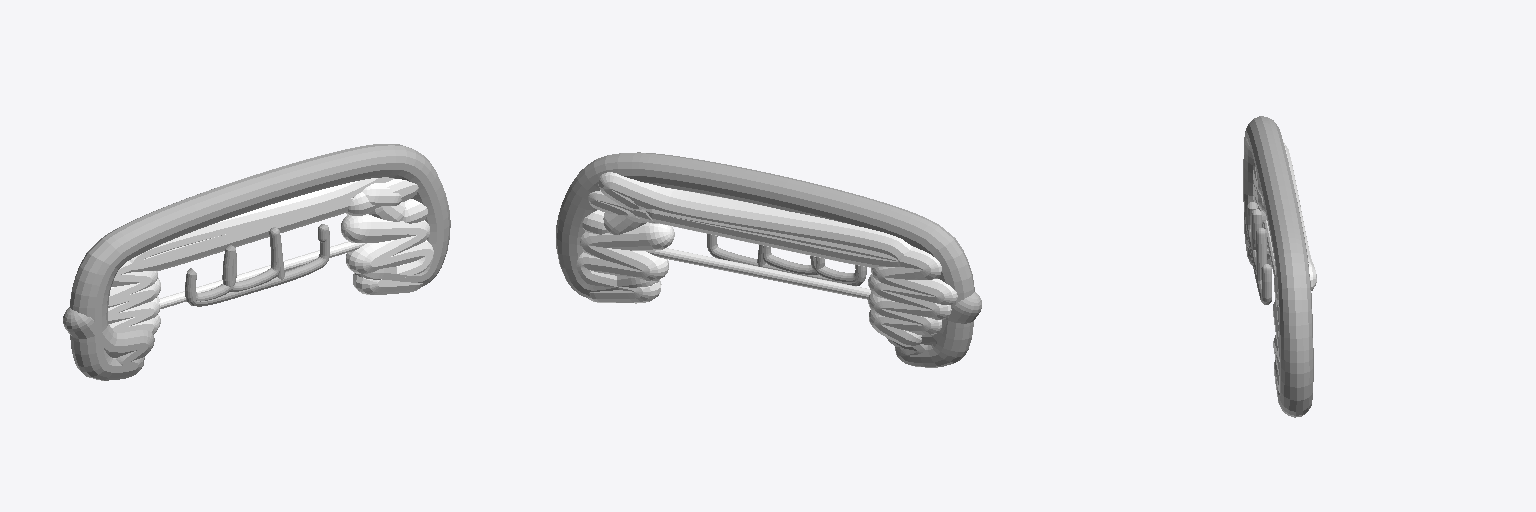
3 renders of one model, left to right at view 1: azimuth 30°, elevation 25°; view 2: azimuth 150°, elevation 25°; view 3: azimuth 270°, elevation 25°, orthographic.
Parts seen in each view (by area): view 1: obj1, obj6, obj2, obj8, obj4, obj7, obj5; view 2: obj1, obj6, obj2, obj7, obj8, obj4; view 3: obj1, obj8, obj6.
Boxes of the visible parts, <box> form: obj1: <box>63,144,450,380</box>; obj6: <box>108,177,394,334</box>; obj2: <box>341,214,433,294</box>; obj8: <box>185,224,329,306</box>; obj4: <box>346,179,418,221</box>; obj7: <box>159,241,366,308</box>; obj5: <box>362,183,401,207</box>; obj1: <box>556,152,981,367</box>; obj6: <box>598,172,957,346</box>; obj2: <box>576,222,674,303</box>; obj7: <box>646,248,870,299</box>; obj8: <box>707,234,866,285</box>; obj4: <box>588,190,658,234</box>; obj1: <box>1243,116,1313,417</box>; obj8: <box>1247,202,1271,304</box>; obj6: <box>1253,142,1316,290</box>.
Bounding box in the file's own units: 0.171 × 0.0653 × 0.0274.
3 materials, 1 textured.